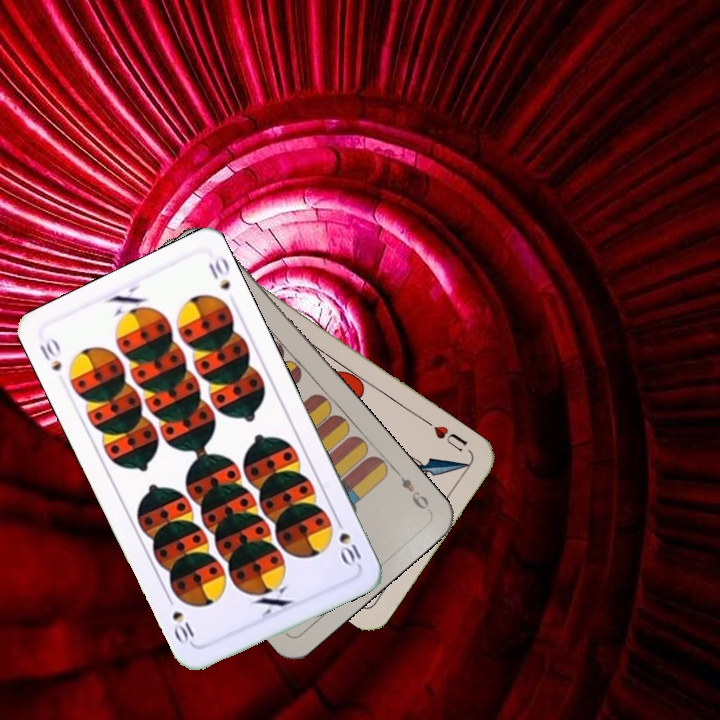E9: (390, 465, 432, 512)
HU: (429, 421, 470, 455)
S10: (331, 513, 364, 570), (35, 334, 65, 375)
